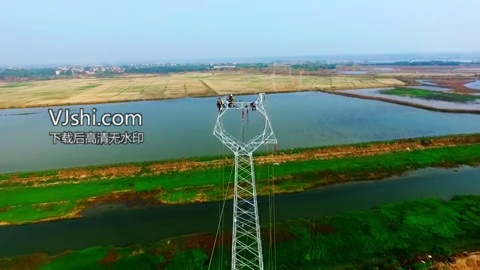tower_body: (208, 87, 282, 270)
tower_foot: (230, 242, 264, 270)
tower_head: (211, 89, 278, 158)
